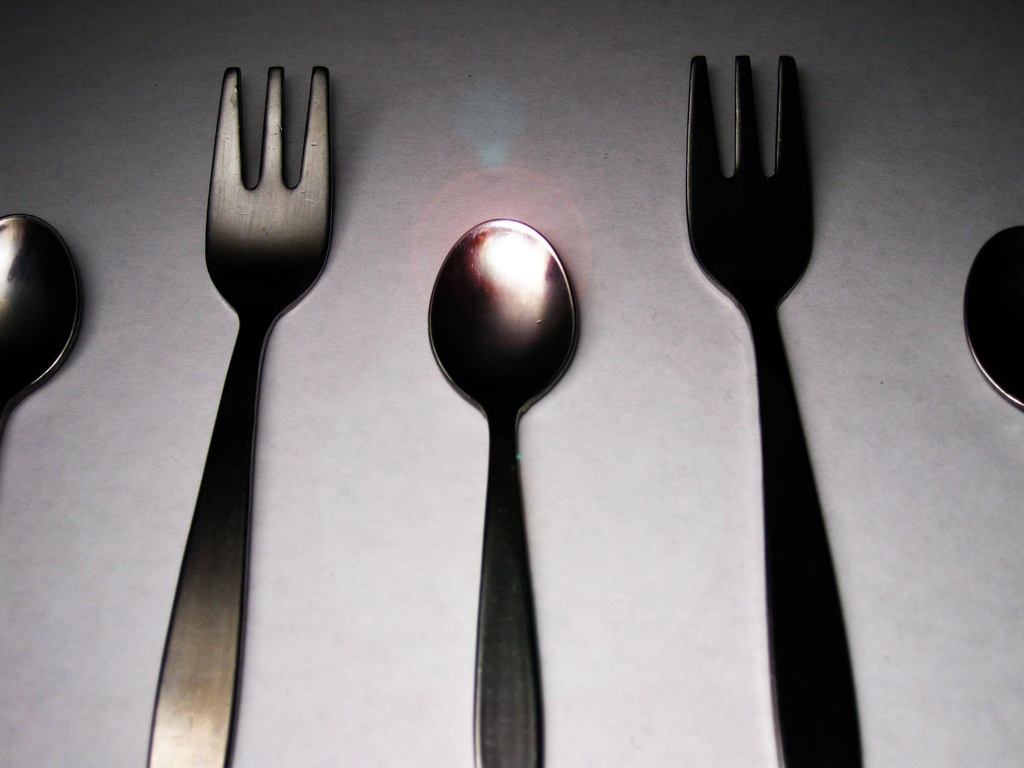fork: (145, 65, 333, 767), (685, 56, 863, 767)
